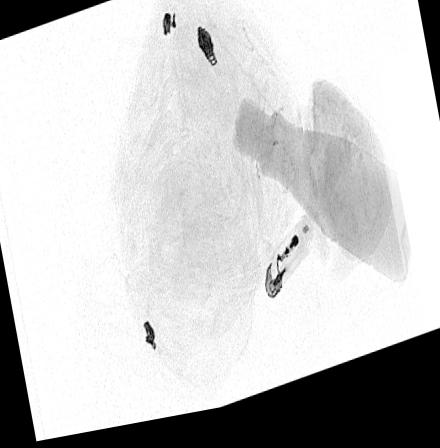Lighter: (263, 227, 313, 310)
